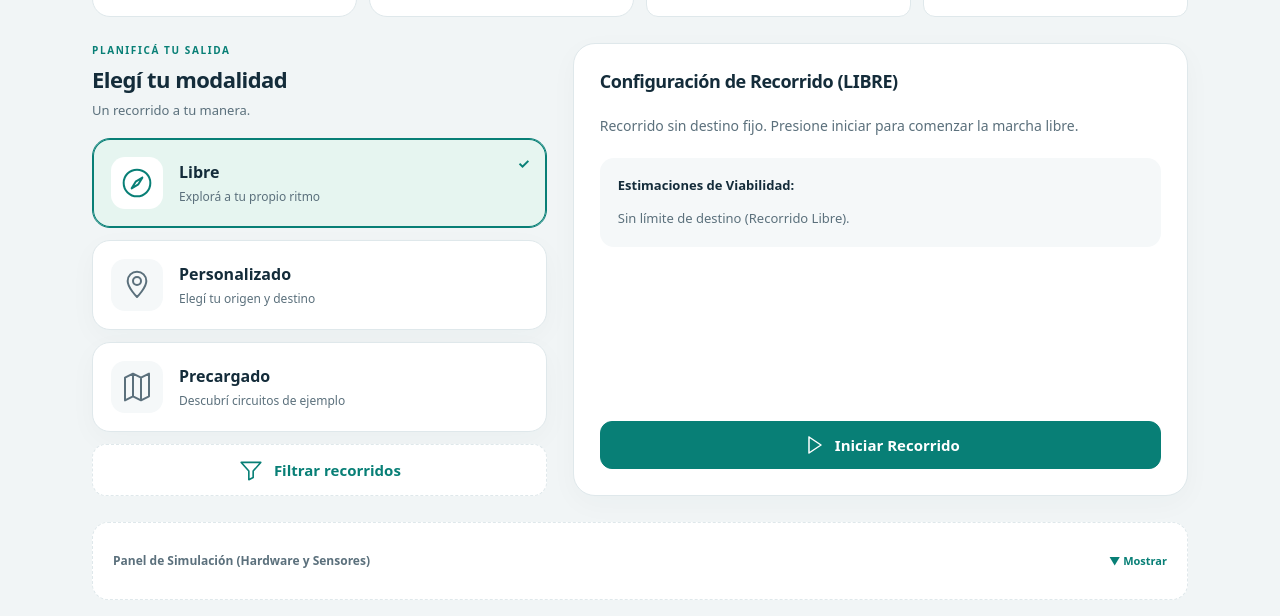
Test case: T-02a — estado simulado compartido (TC-01/02/03) › TC-03: usa la batería compartida para recalcular viabilidad sin cambiar estimaciones
(page scrolled)
Step 1. Click the text "Panel de Simulación (Hardware y Sensores)" → {"x": 242, "y": 561}, box x1=113 y1=552 x2=370 y2=570
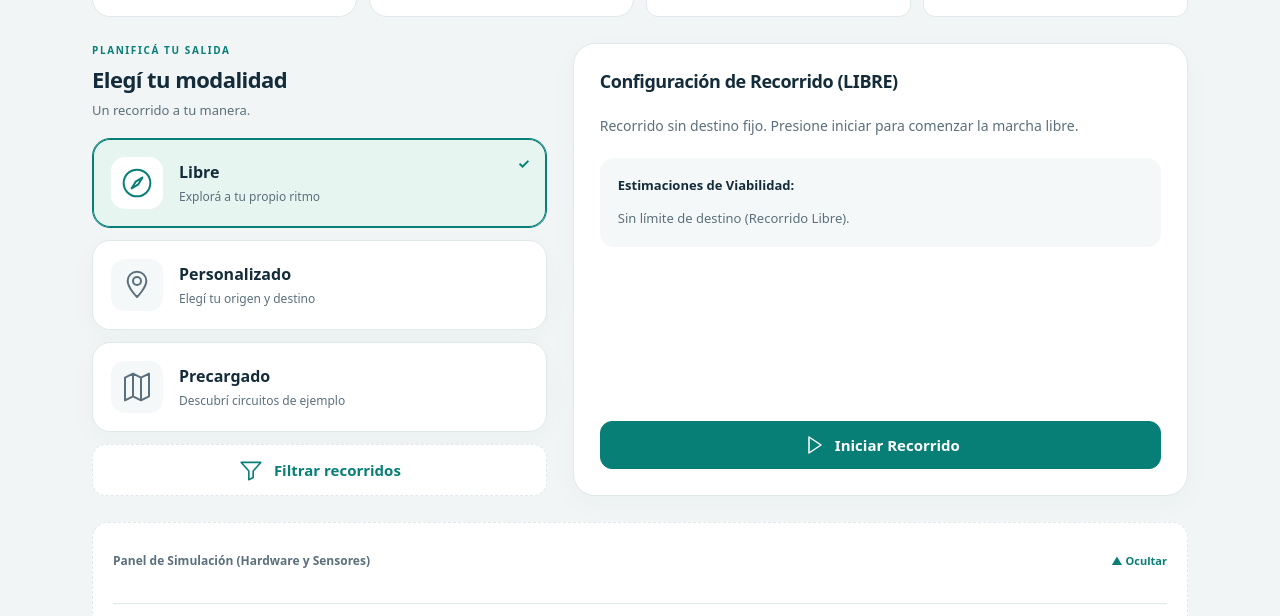
Step 2. Click the button "Precargado Descubrí circuitos de ejemplo" → {"x": 137, "y": 387}, box x1=92 y1=342 x2=547 y2=432
(page scrolled)
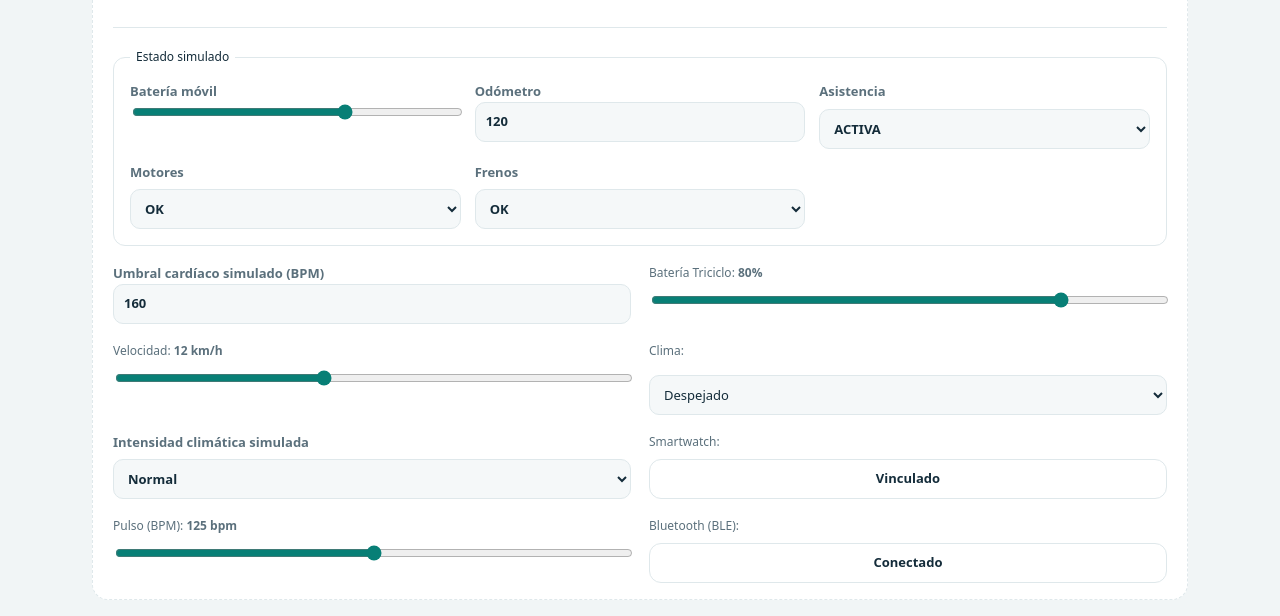
Step 3. Set the slider named "Batería del triciclo" to "20" → {"x": 759, "y": 300}, box x1=651 y1=292 x2=1169 y2=308
(page scrolled)
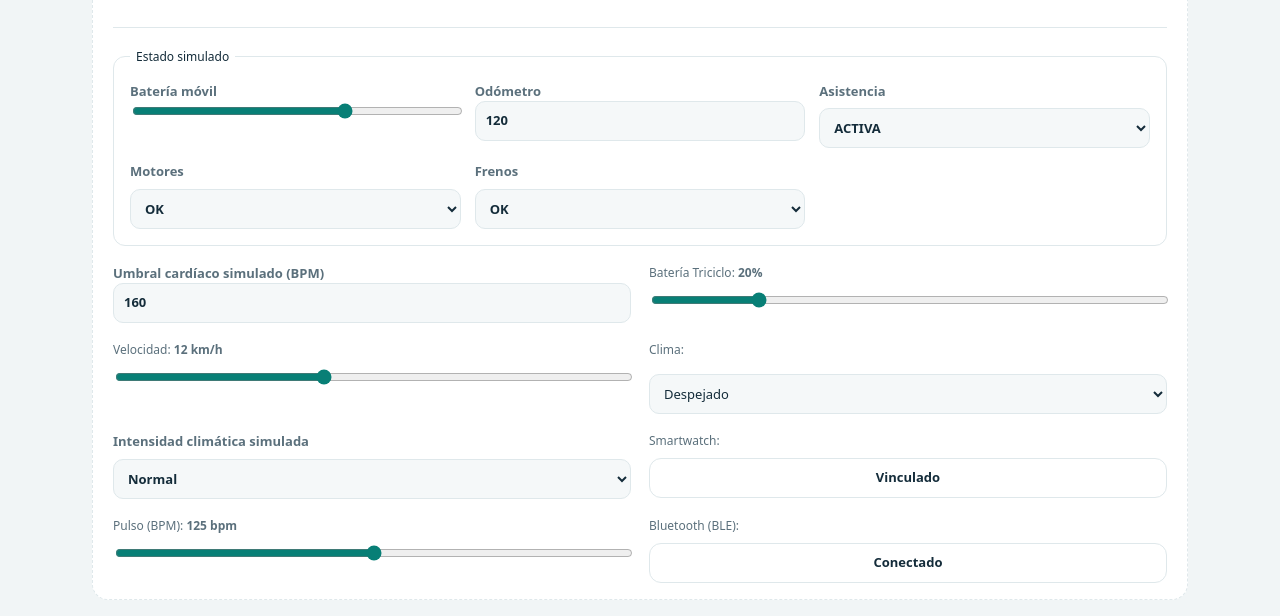
Step 4. Set the slider named "Batería del triciclo" to "30" → {"x": 810, "y": 300}, box x1=651 y1=292 x2=1169 y2=308
(page scrolled)
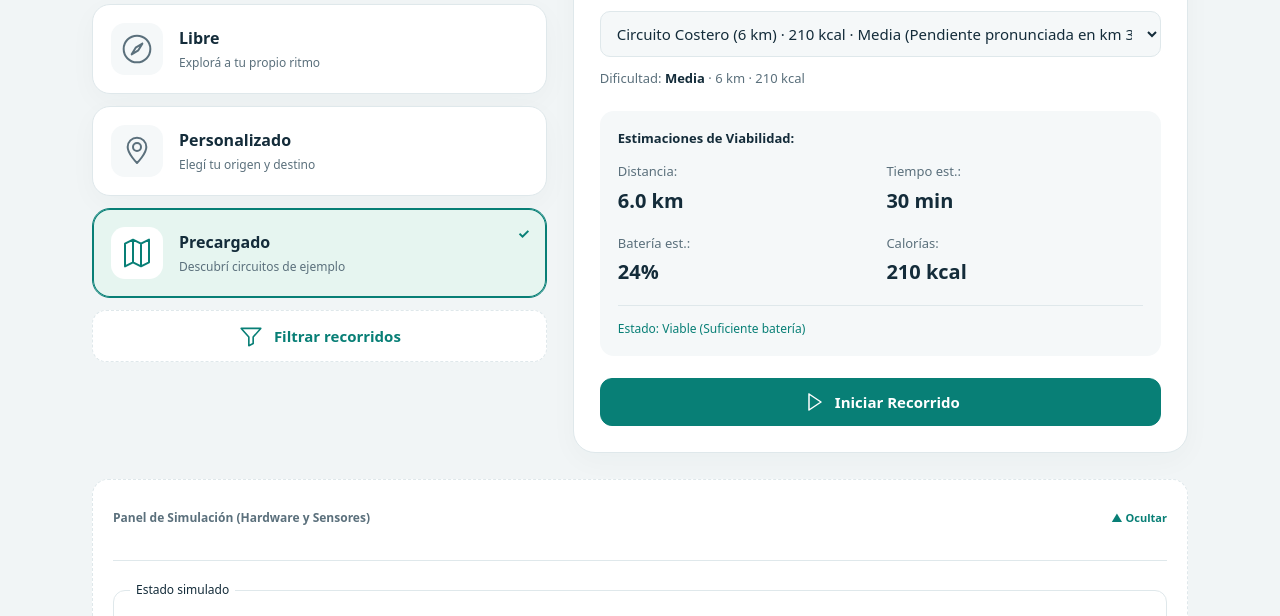
Check: the text "24%" is shown, box x1=618 y1=258 x2=659 y2=285
Check: the text "210 kcal" is shown, box x1=886 y1=258 x2=967 y2=285
Check: the text "Estado: Viable (Suficiente batería)" is shown, box x1=618 y1=305 x2=1143 y2=338
